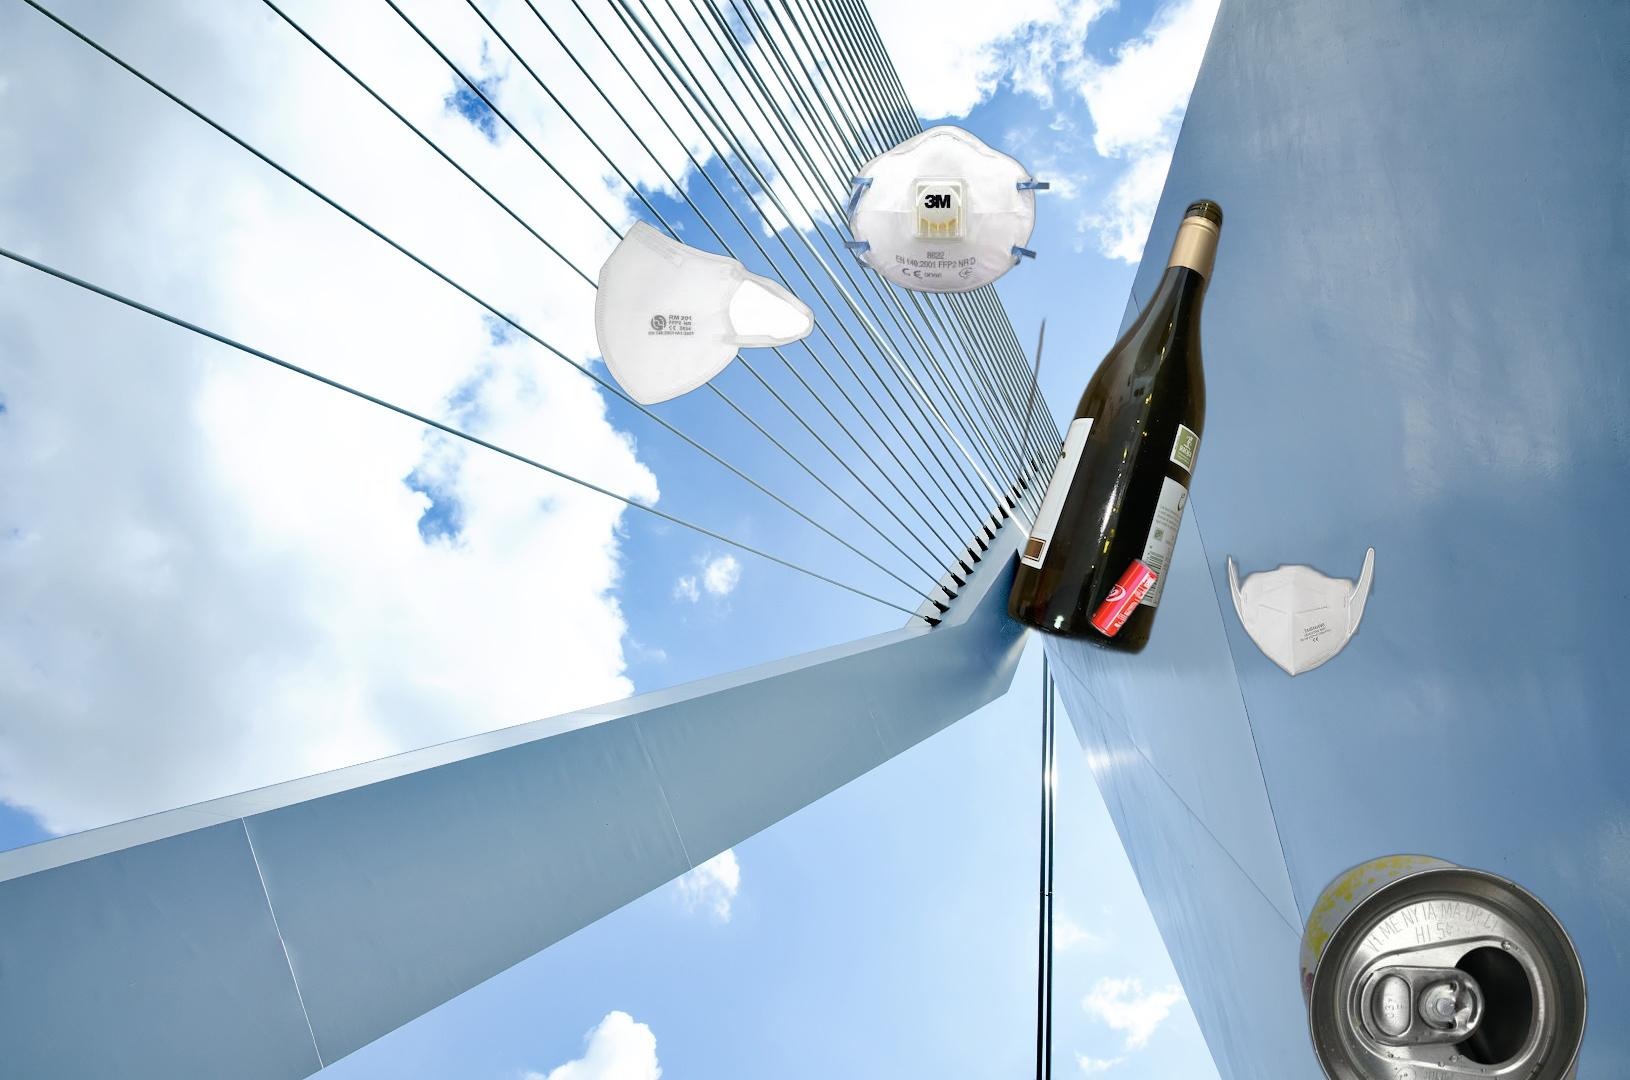glass: (1002, 194, 1226, 661)
metal-cans: (825, 552, 1163, 949), (1296, 851, 1591, 1080)
trash: (592, 217, 817, 407), (840, 122, 1055, 297), (1222, 544, 1378, 680)
